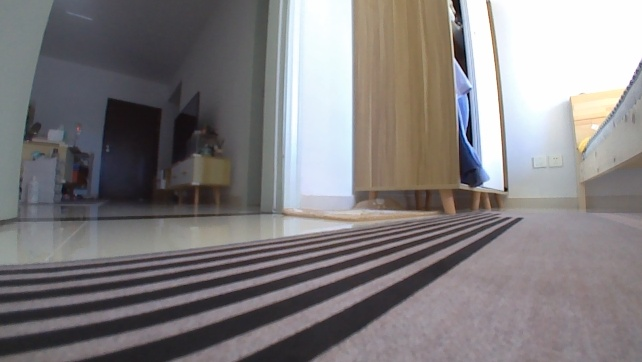TV_stand: (150, 149, 232, 208)
bed1: (562, 59, 641, 211)
blanket: (0, 208, 641, 361), (283, 203, 441, 223)
